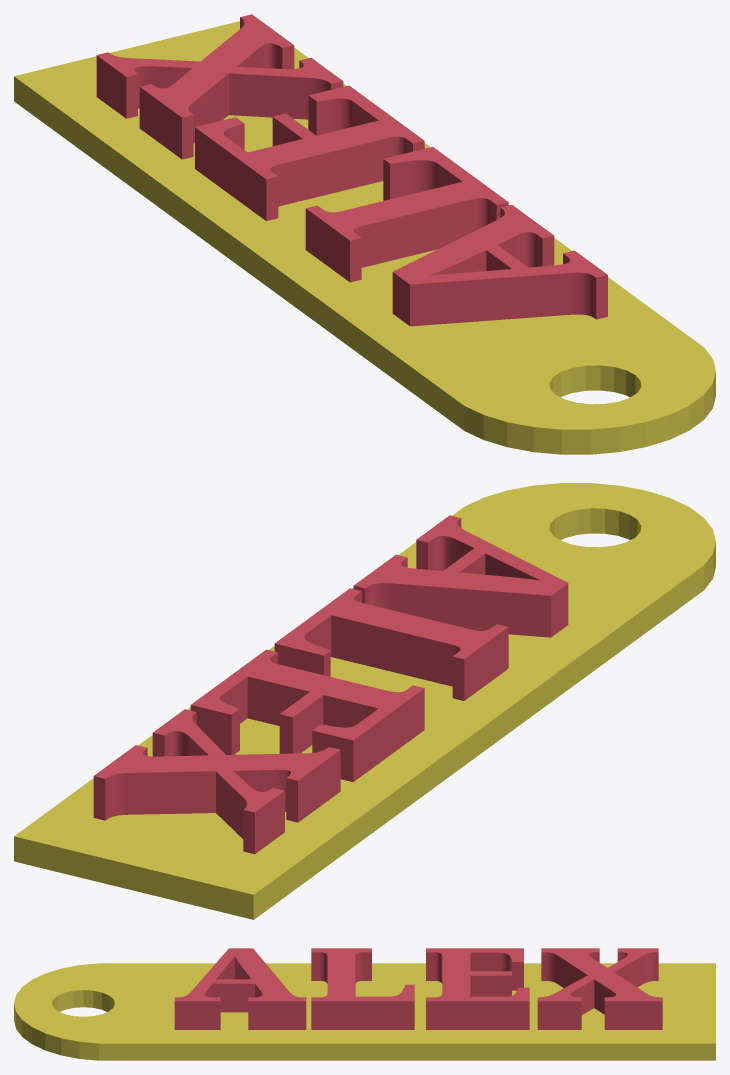
The model's file is asset.glb.
3 views of the same model, one above another, from view 1: azimuth 30°, elevation 25°; view 2: azimuth 150°, elevation 25°; view 3: azimuth 270°, elevation 25° (orthographic). The views are drawn at different scales.
Visible parts, largest first — view 1: Mesh_Mesh_head_geo.001_lambert2SG.001; view 2: Mesh_Mesh_head_geo.001_lambert2SG.001; view 3: Mesh_Mesh_head_geo.001_lambert2SG.001.
Part boxes in pixels (left/top/right/bottom): Mesh_Mesh_head_geo.001_lambert2SG.001: left=14, top=14, right=715, bottom=454; Mesh_Mesh_head_geo.001_lambert2SG.001: left=14, top=483, right=715, bottom=919; Mesh_Mesh_head_geo.001_lambert2SG.001: left=14, top=948, right=715, bottom=1060.
Size of the model in its own units: 30 by 8 by 111.
